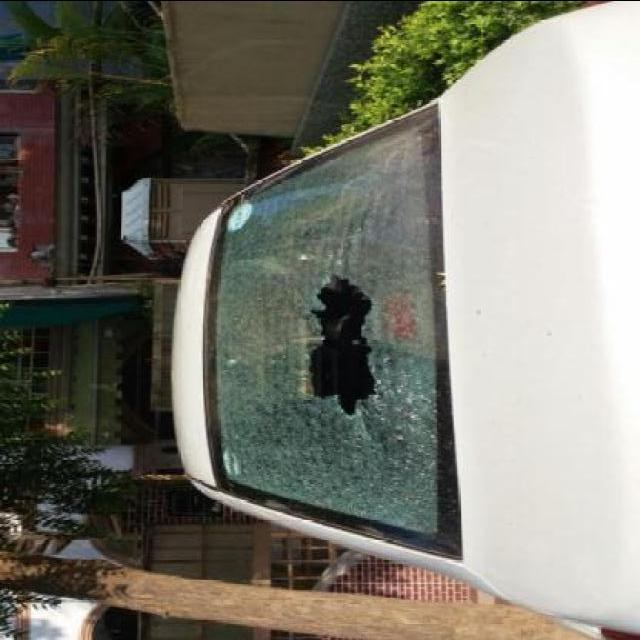Rear-windscreen-Damage: (195, 94, 503, 538)
